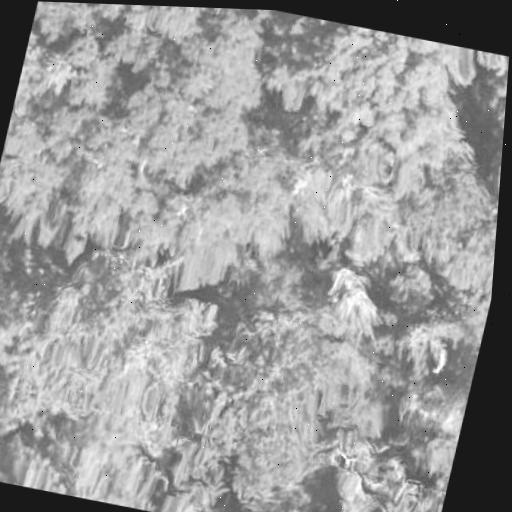tree-top: (0, 229, 222, 459), (248, 11, 494, 200), (190, 311, 362, 512), (0, 102, 147, 252), (110, 69, 265, 202), (282, 158, 418, 286), (153, 182, 280, 306), (165, 6, 270, 129), (394, 372, 472, 487), (60, 423, 162, 510), (426, 199, 499, 319), (319, 441, 439, 512), (5, 17, 62, 147), (387, 306, 468, 385), (468, 76, 508, 207), (380, 255, 450, 322), (104, 16, 172, 76), (0, 266, 32, 390), (138, 5, 212, 47), (142, 481, 231, 512), (29, 1, 94, 43), (0, 371, 18, 481), (482, 121, 504, 201), (478, 52, 509, 102), (91, 3, 131, 24)
